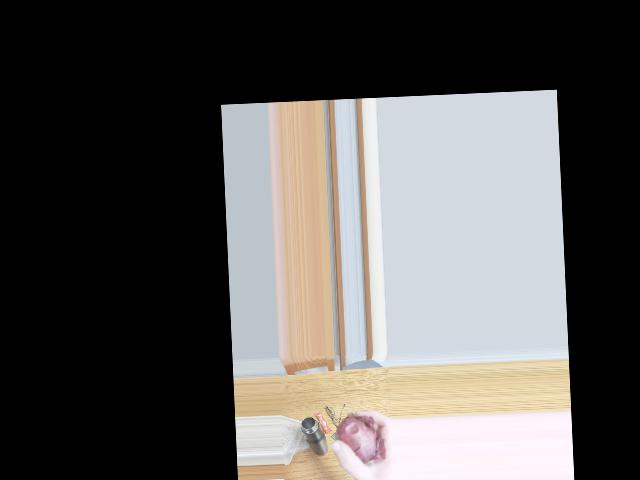onion: (334, 415, 380, 464)
